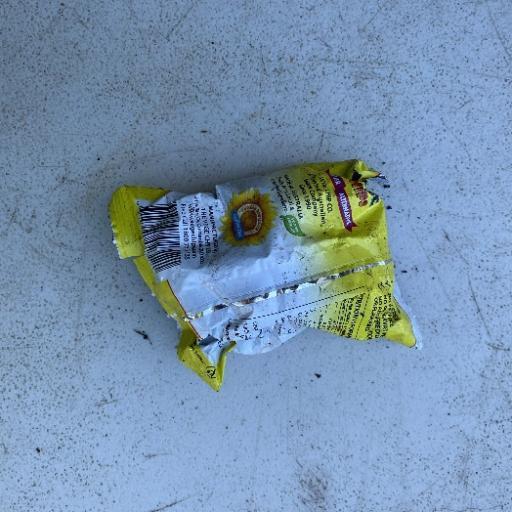Plastic: (107, 156, 419, 393)
